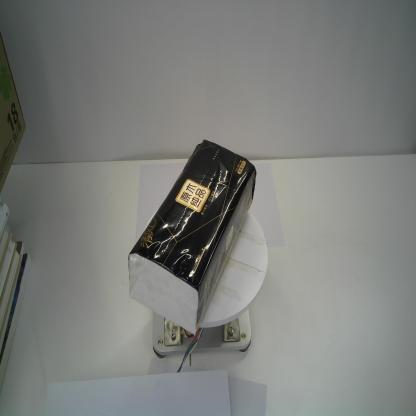Tissue: (126, 137, 258, 337)
